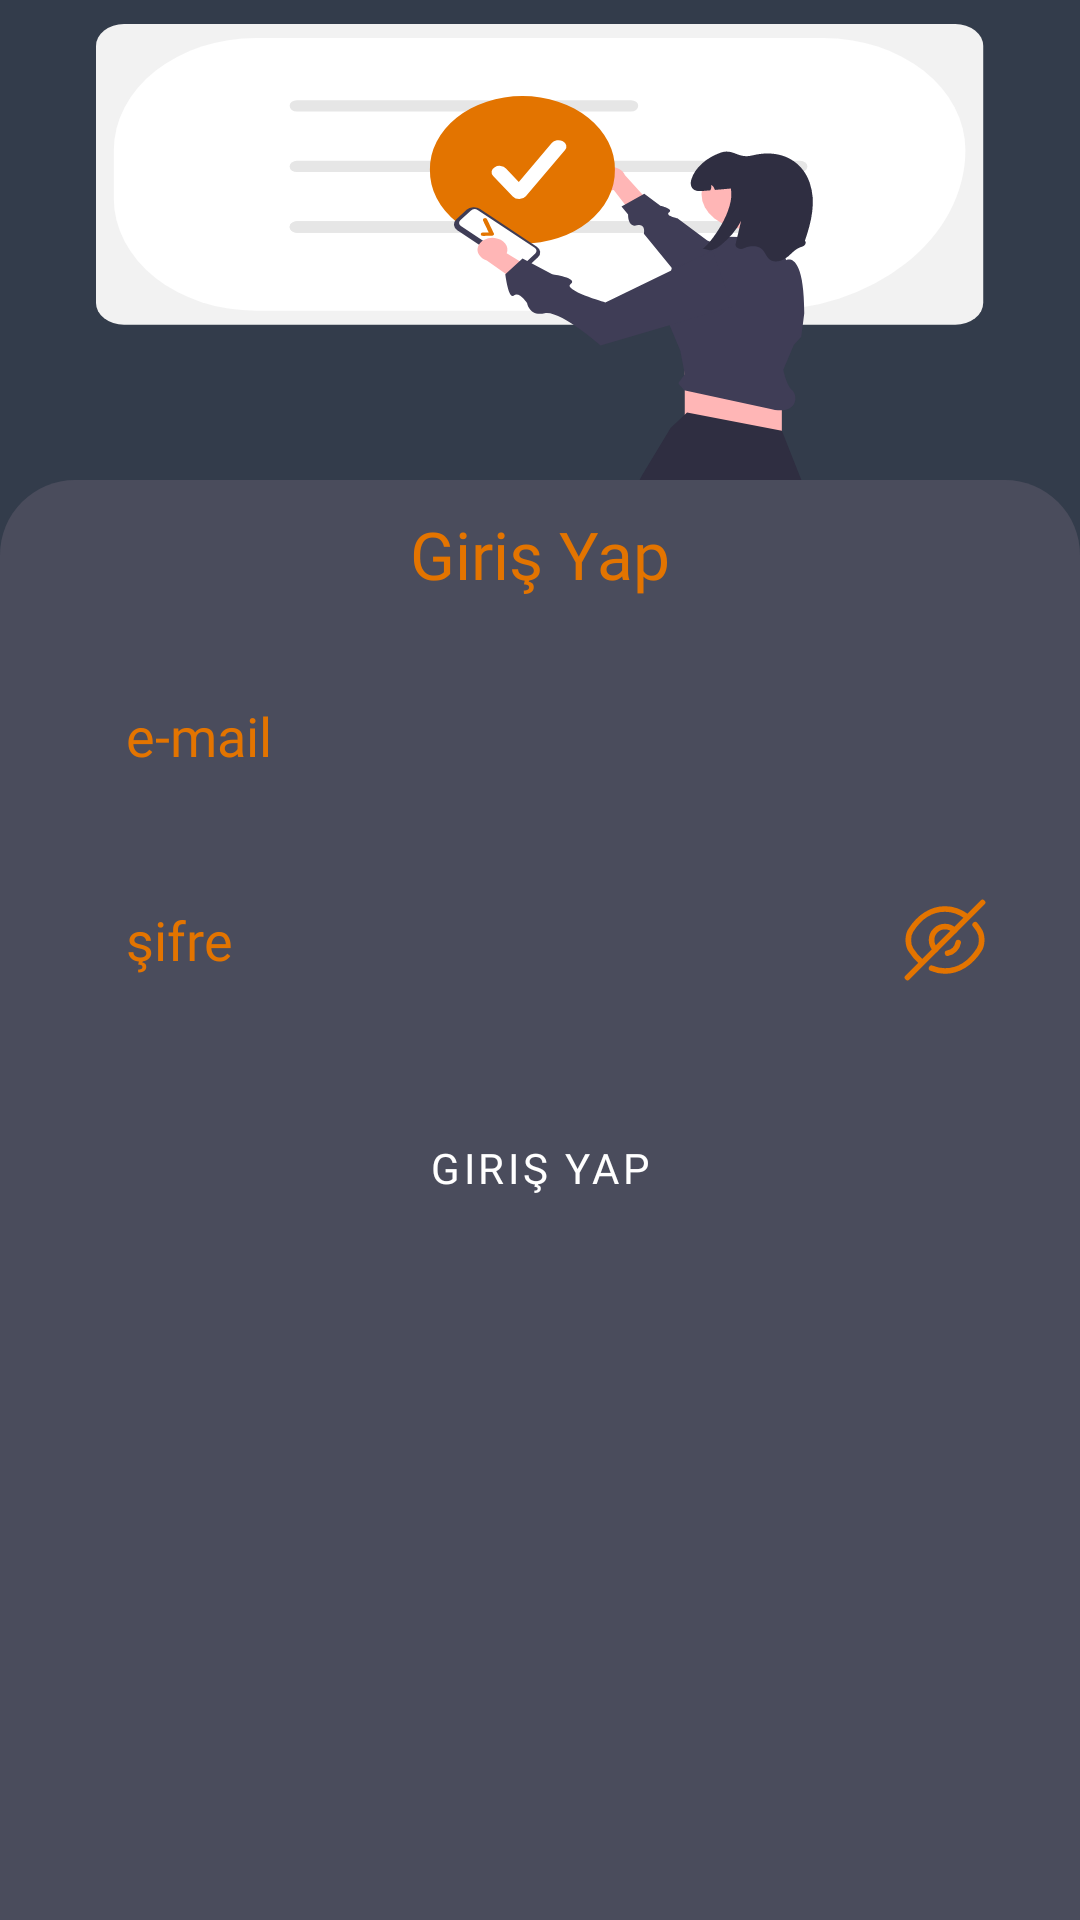

Named icons in this screenshot (1080w x 1920h) and their bounding boxes, (x1, y1, x2, y2):
eye close: (904, 899, 986, 981)
